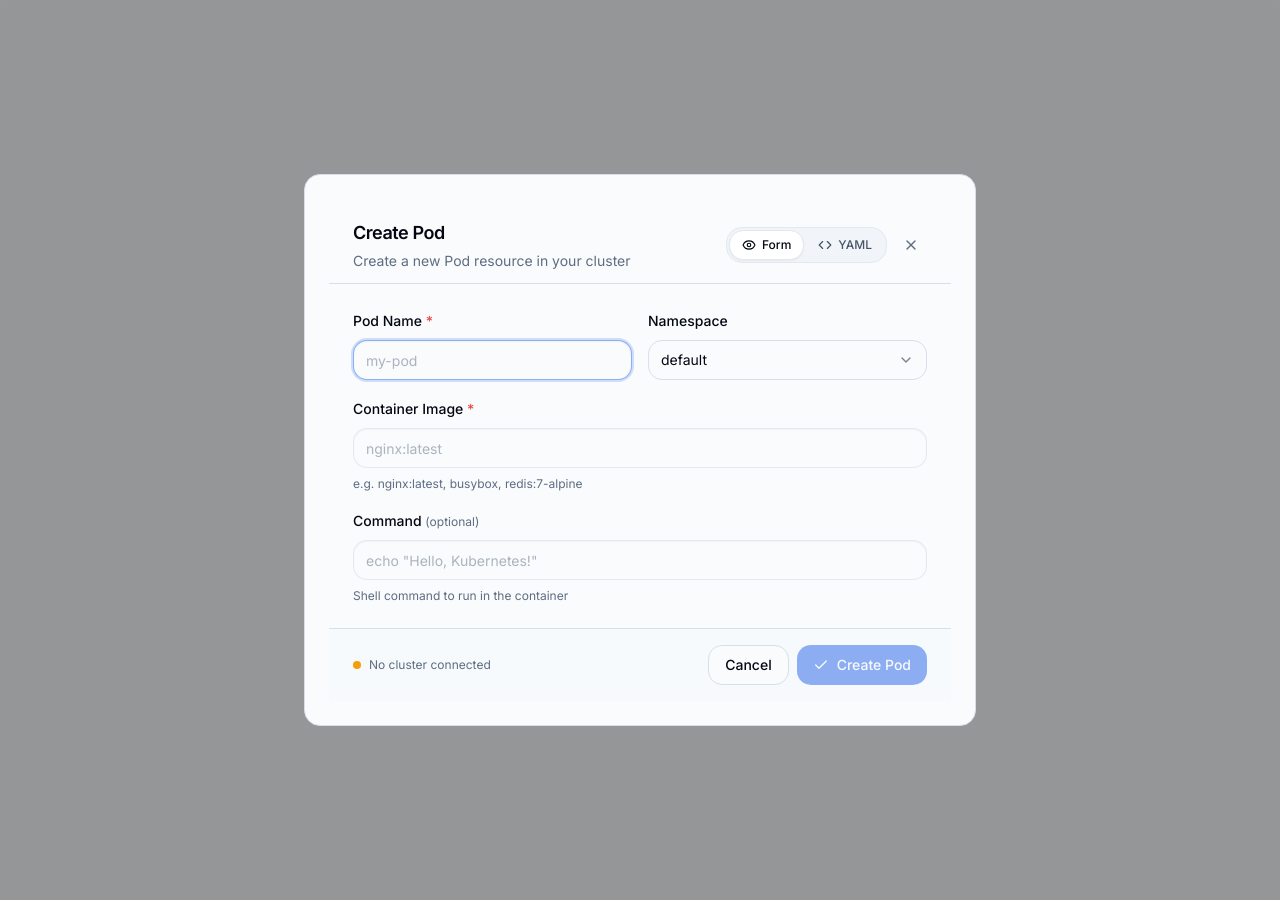
Test: QuickCreateDialog › YAML mode toggle › switches to YAML mode and back
expect the button "Form" is shown: met, box left=729, top=230, right=804, bottom=260
Note: Switch to YAML mode
Click the button "YAML": (845,245) left=806, top=231, right=884, bottom=259
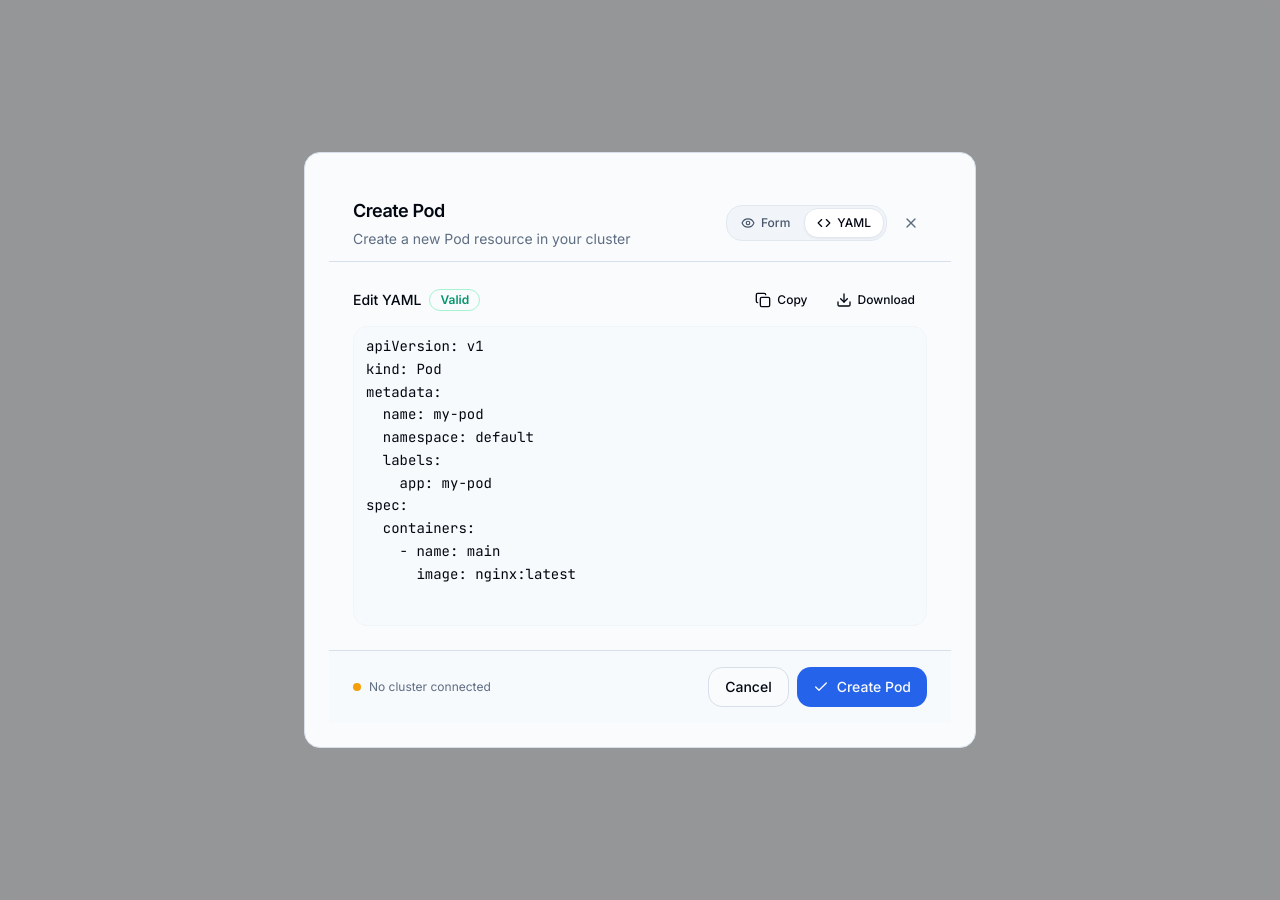
expect the text "Edit YAML" is shown: met, box left=353, top=290, right=421, bottom=310
expect the text box with placeholder "Enter YAML configuration..." is shown: met, box left=353, top=326, right=927, bottom=626
Note: Switch back to Form mode
Click the button "Form": (766,223) left=729, top=209, right=802, bottom=237
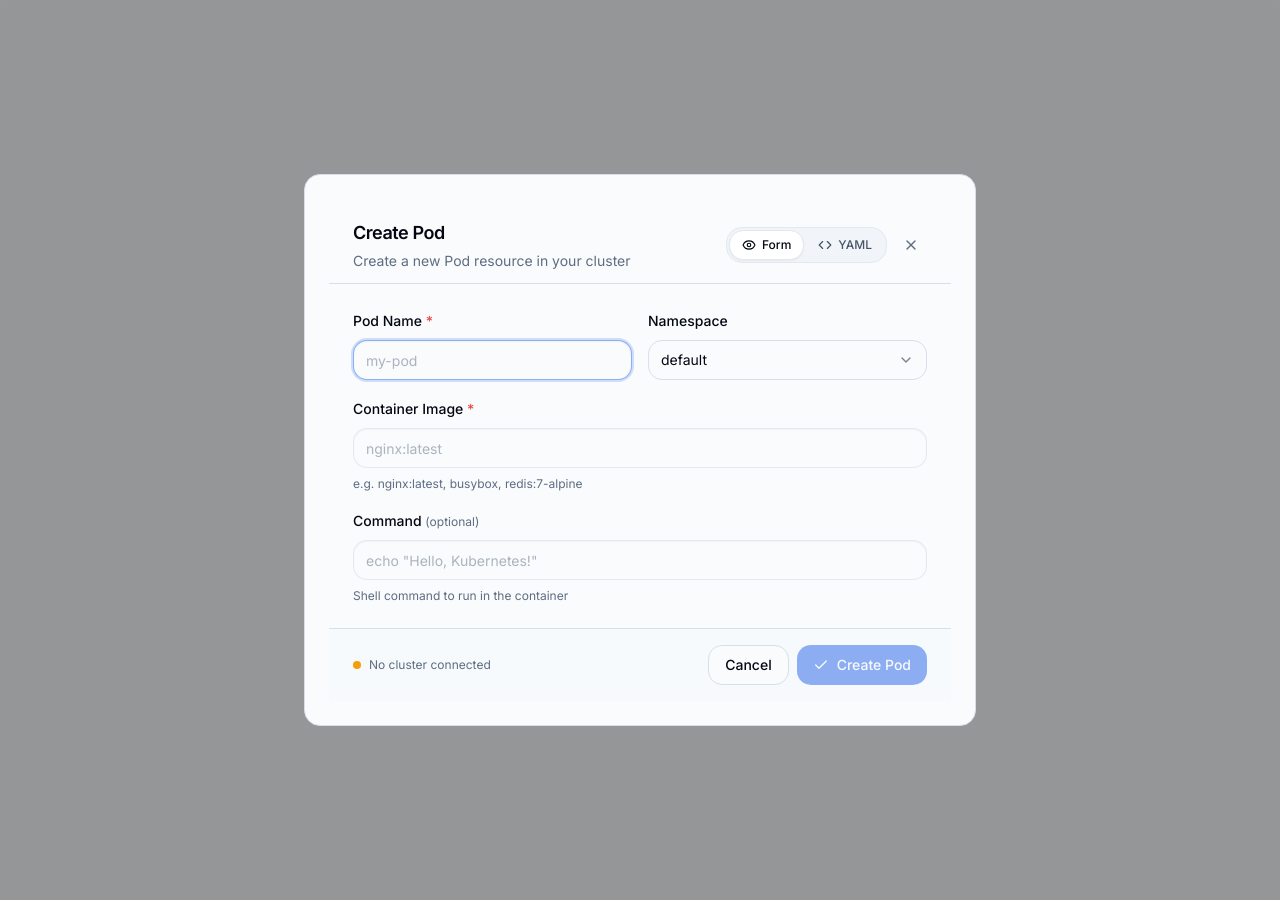
expect the field labelled "Pod Name *" is shown: met, box left=353, top=340, right=632, bottom=380
